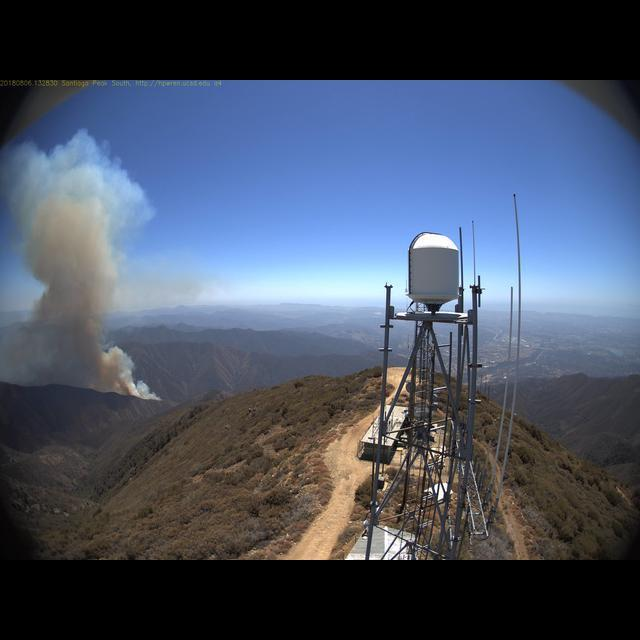Smoke: (0, 127, 167, 405)
